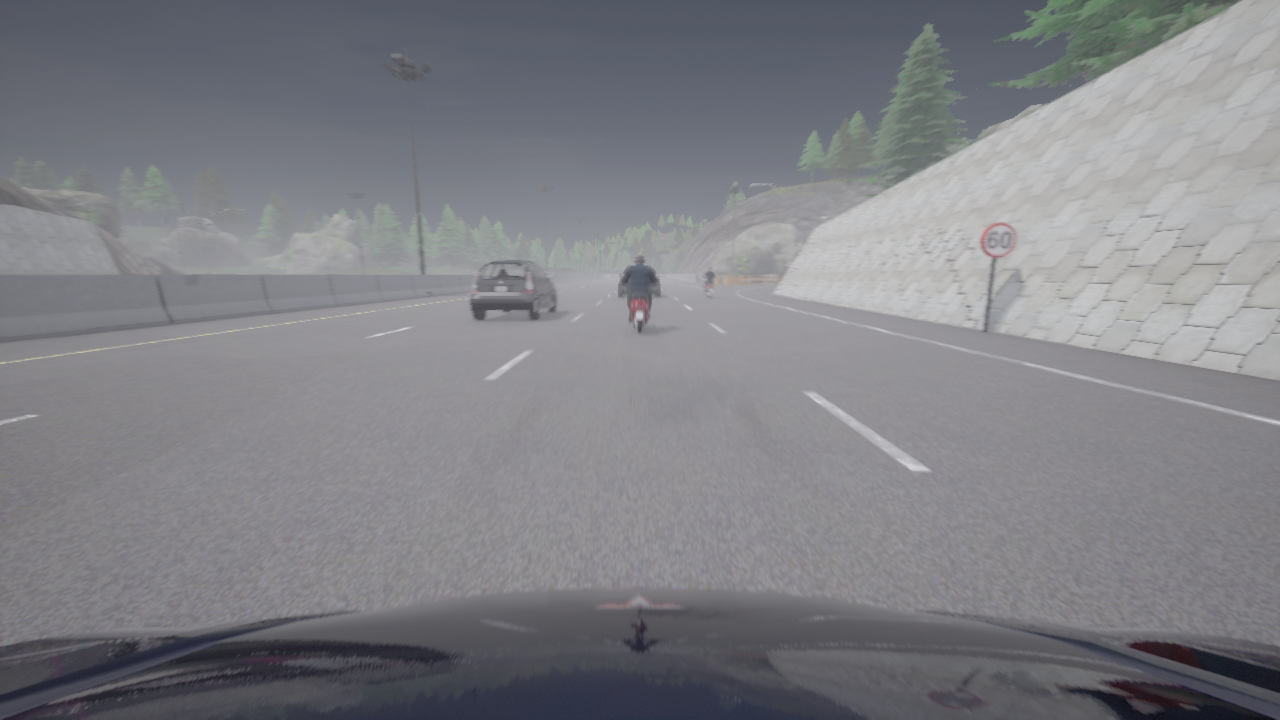cyclist: (0, 588, 1279, 719), (469, 259, 557, 320), (620, 273, 659, 333), (619, 265, 660, 296), (701, 273, 714, 298)
